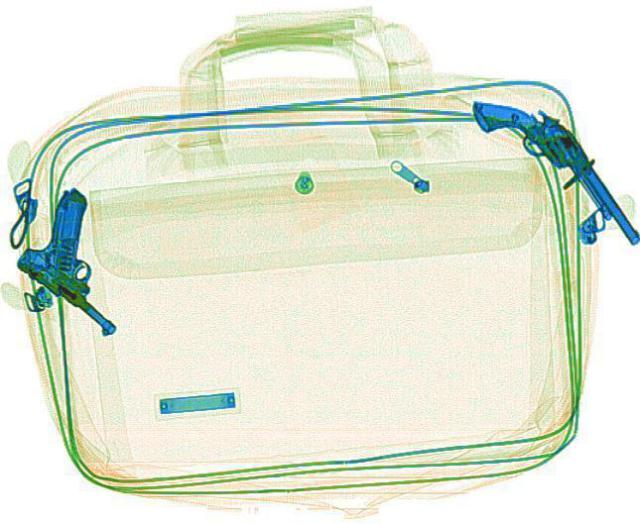Gun: (468, 80, 636, 259), (1, 205, 175, 335)
